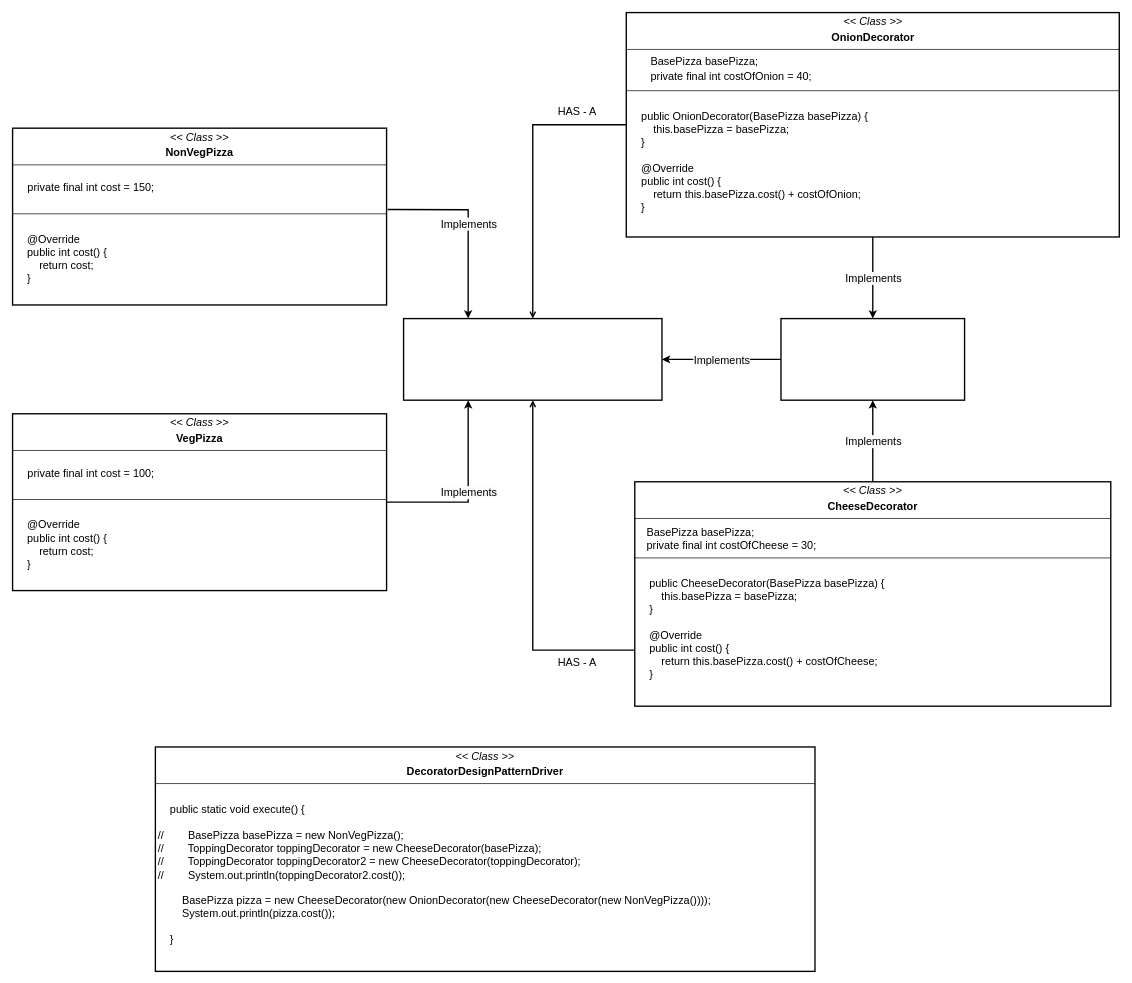
The diagram is 1132 pixels wide and 983 high, and some of its shapes have lost their labels. Each missing label, with the centre of its shape:
<<Interface>> BasePizza int cost();: the point at 532,359
<<Interface>> ToppingDecorator int cost();: the point at 872,359
